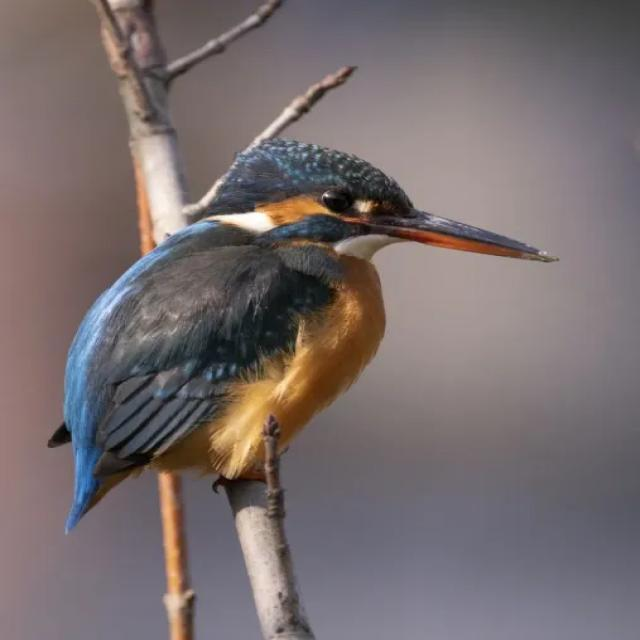kingfisher: (37, 122, 581, 543)
